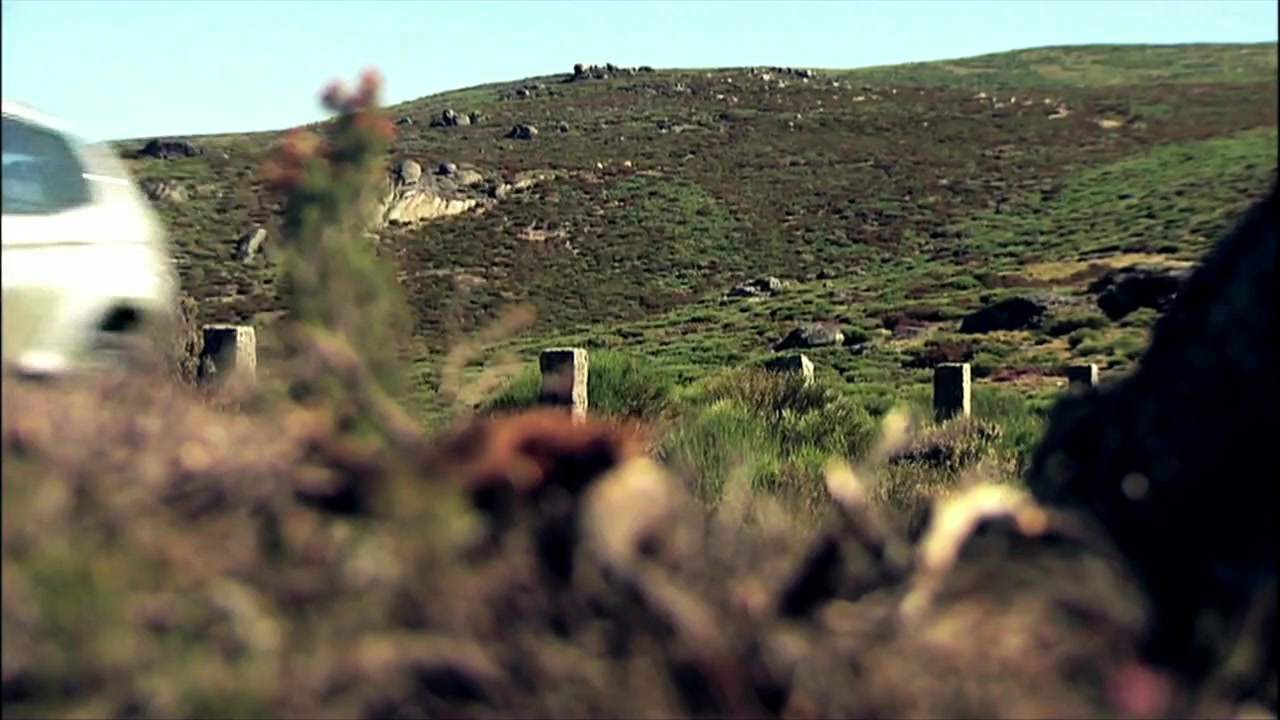car: (2, 92, 180, 390)
